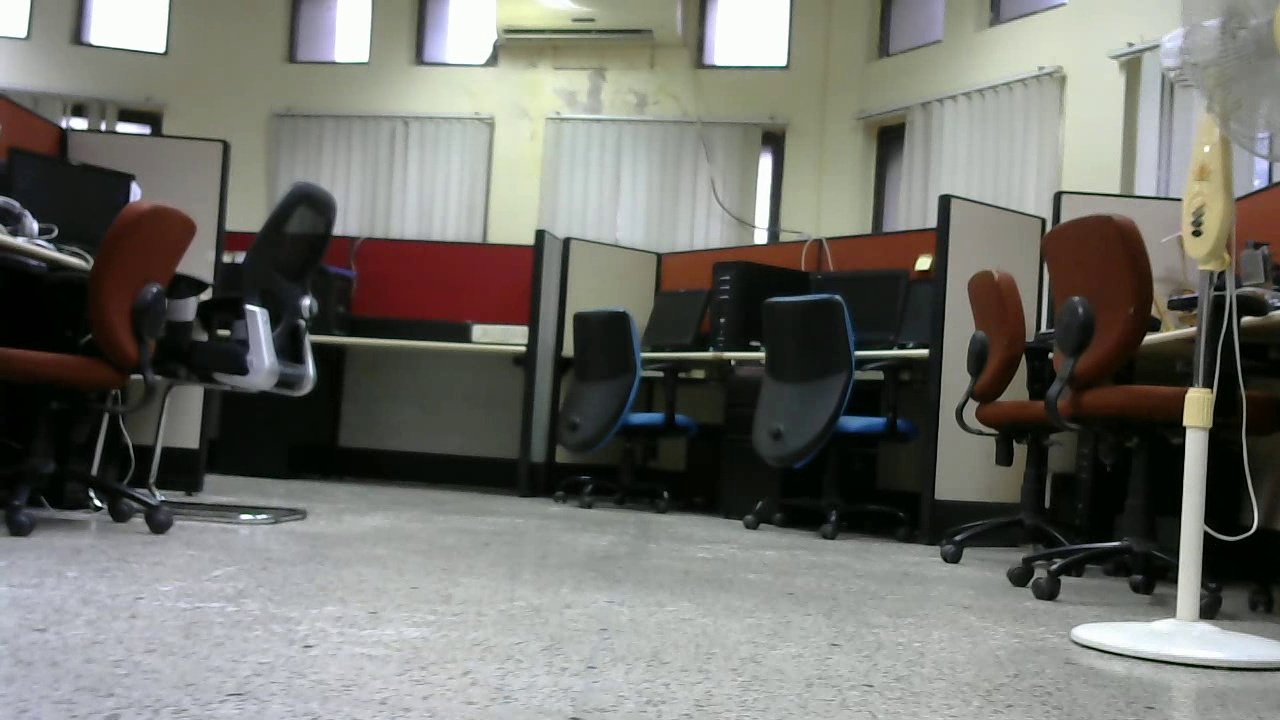chair: (1034, 212, 1280, 611), (1, 209, 203, 530), (173, 176, 340, 525), (945, 270, 1100, 575), (743, 287, 927, 540), (539, 299, 708, 509)
